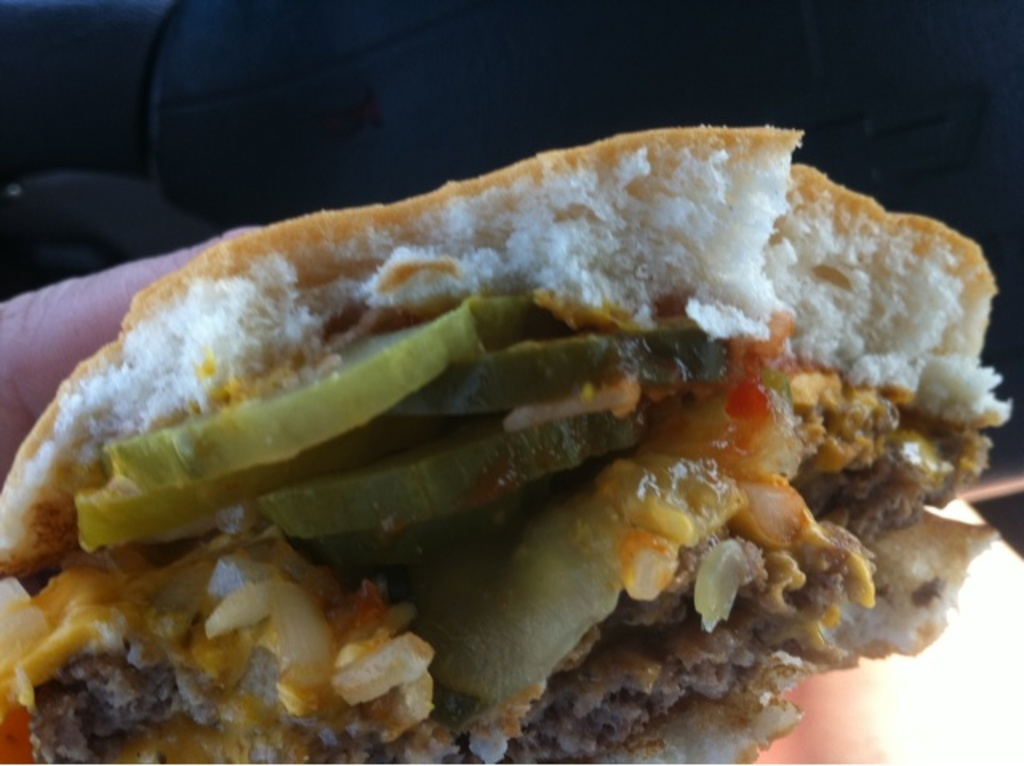Hamburger: (0, 124, 1016, 764)
